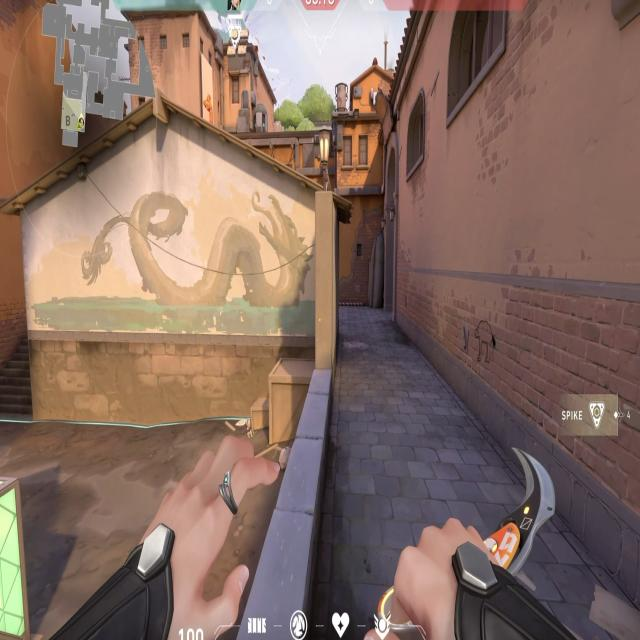Throwables: (438, 3, 521, 132), (403, 83, 435, 186)
